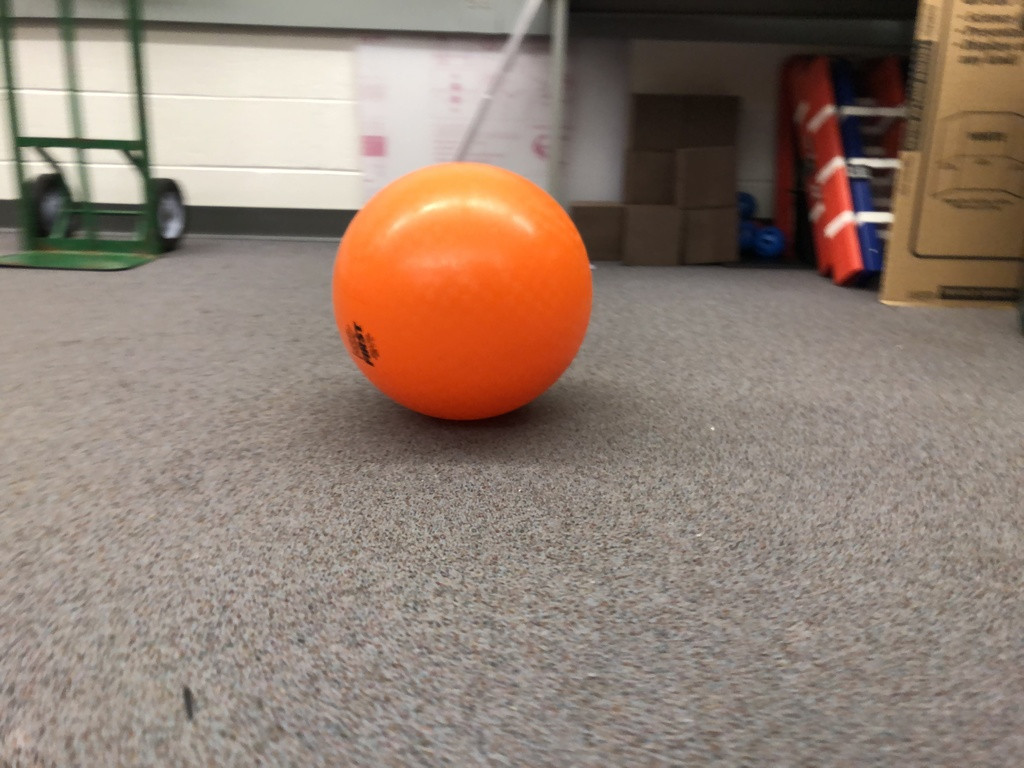cargo: (326, 151, 609, 428)
